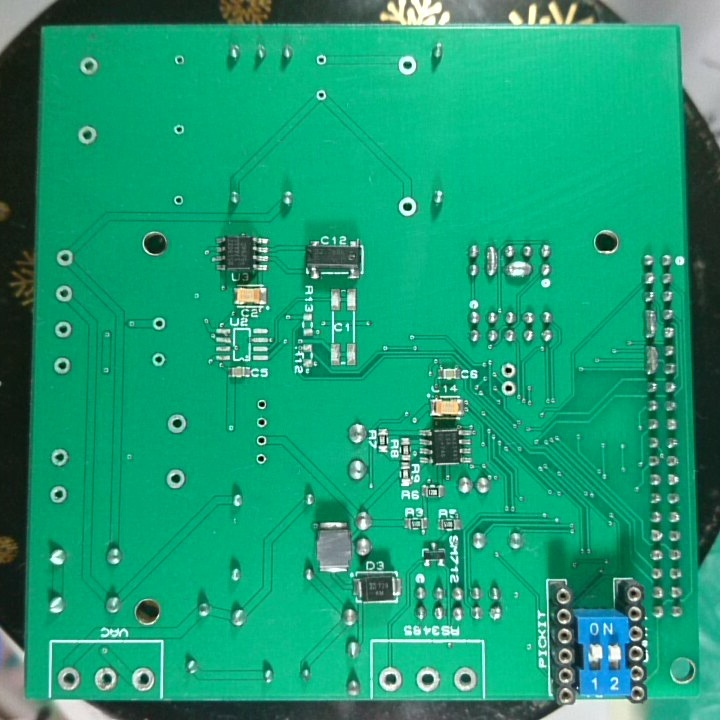F: (413, 665, 444, 696), (55, 664, 85, 695), (451, 663, 479, 696), (92, 664, 122, 694), (128, 663, 156, 695), (377, 664, 404, 695), (164, 411, 190, 438), (393, 54, 422, 78), (46, 445, 74, 469), (395, 193, 420, 219), (52, 246, 77, 272), (163, 467, 188, 492), (75, 55, 101, 79), (74, 124, 99, 147), (48, 483, 71, 507), (51, 282, 76, 304), (51, 318, 75, 340), (50, 355, 73, 377), (498, 360, 519, 380), (148, 350, 168, 371), (149, 314, 168, 335), (312, 50, 332, 69), (498, 380, 520, 397), (170, 51, 189, 70), (251, 449, 270, 468), (170, 121, 188, 141), (254, 396, 271, 414), (254, 414, 271, 432), (312, 85, 328, 103), (170, 191, 186, 209), (254, 432, 270, 450)
P: (640, 341, 659, 377), (640, 306, 659, 341), (482, 243, 499, 279), (503, 258, 530, 280)
